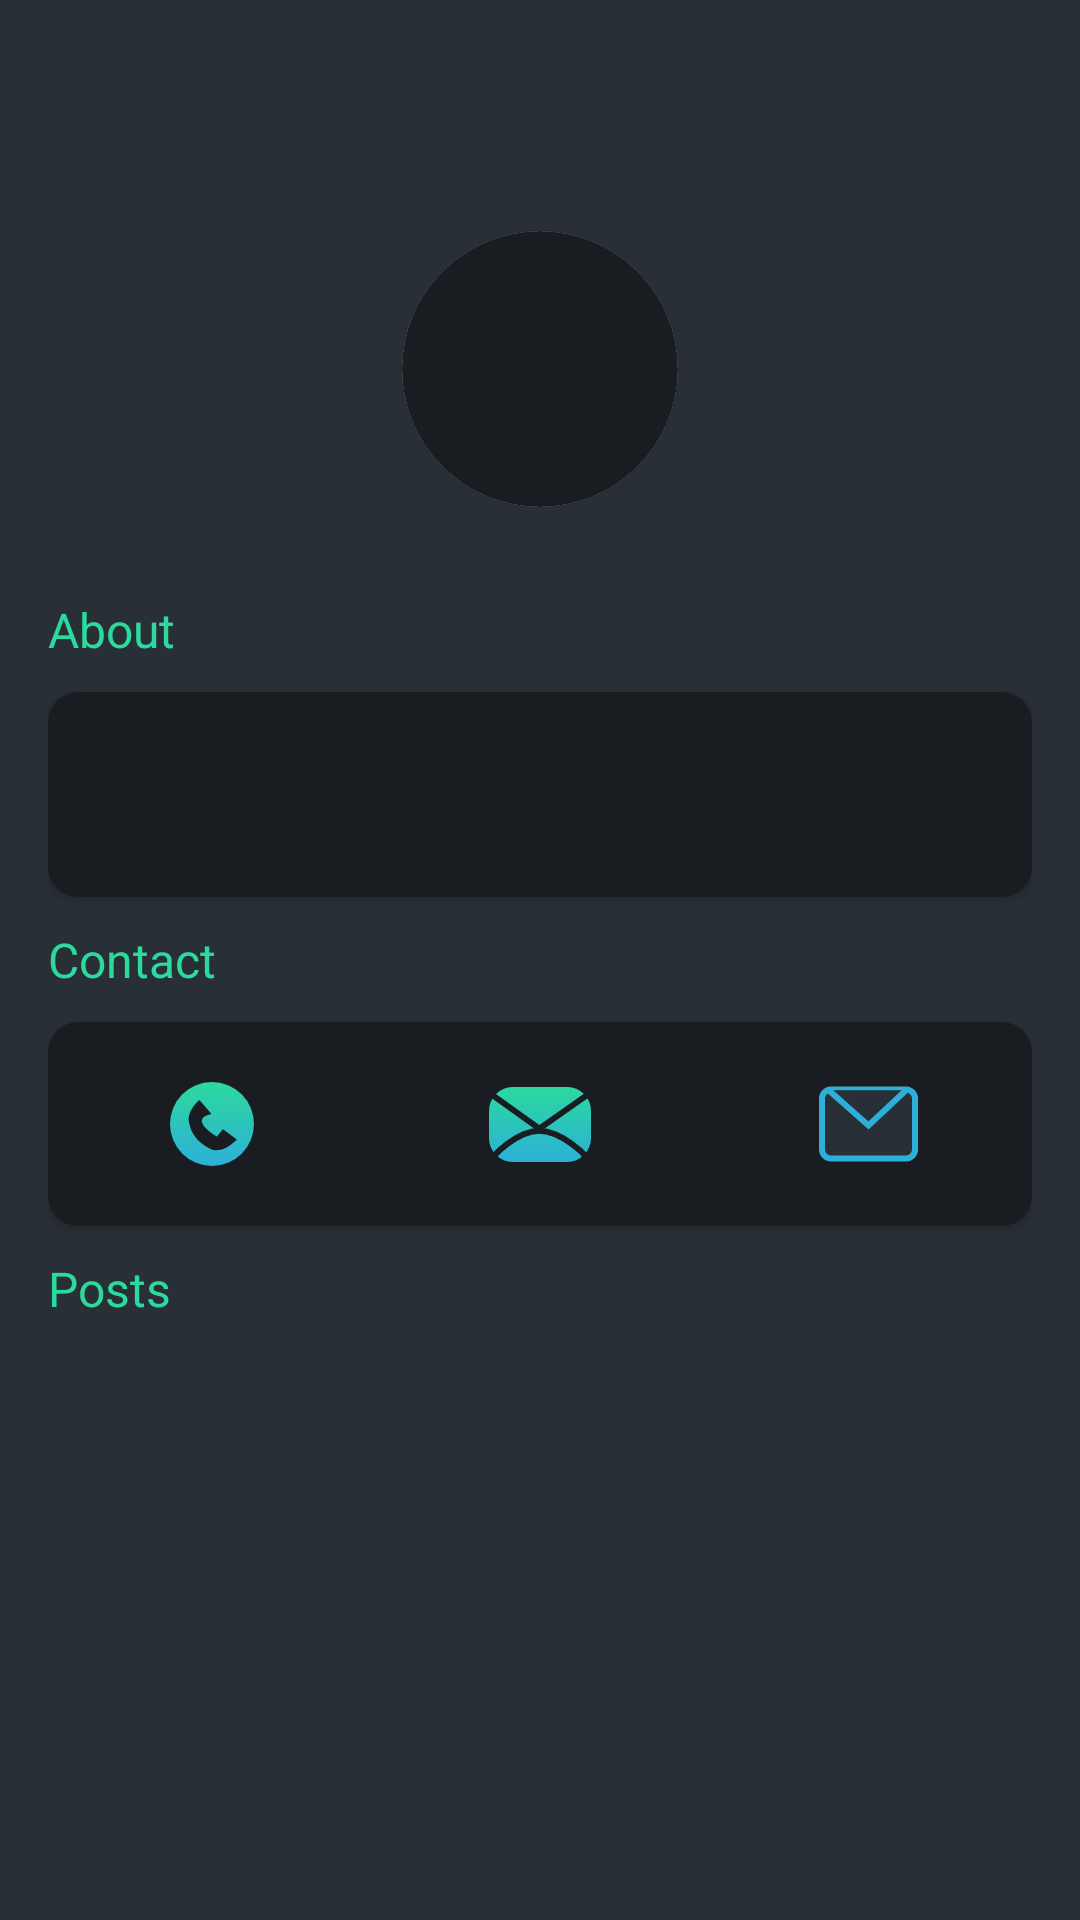

Icon click points for this 1080x1920 phone screenshot, format (x=x, y=y):
mail: (x=868, y=1124)
phone: (x=212, y=1124)
